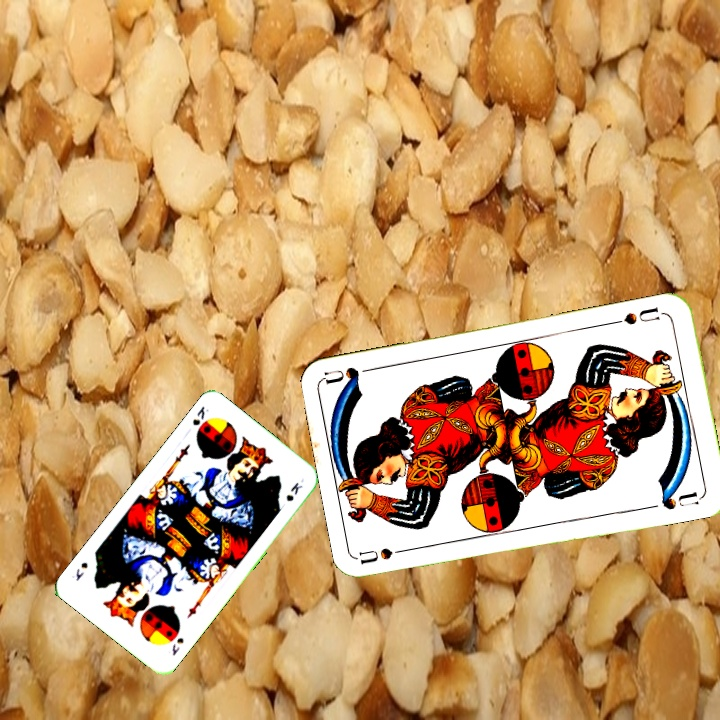SK: (188, 402, 211, 428), (168, 633, 186, 658)
SU: (357, 543, 417, 567), (609, 303, 662, 327)
